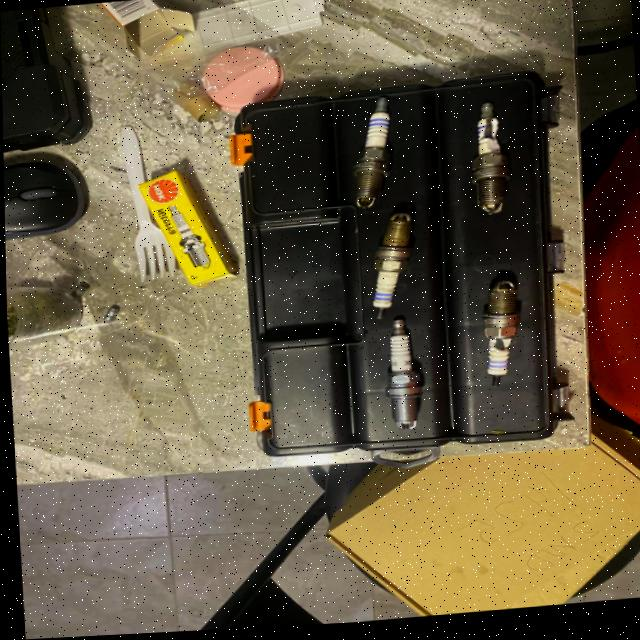damaged_spark-plug: (477, 280, 521, 389), (468, 105, 506, 220)
spark-plug: (344, 101, 395, 211), (362, 216, 414, 322), (381, 319, 421, 437)
